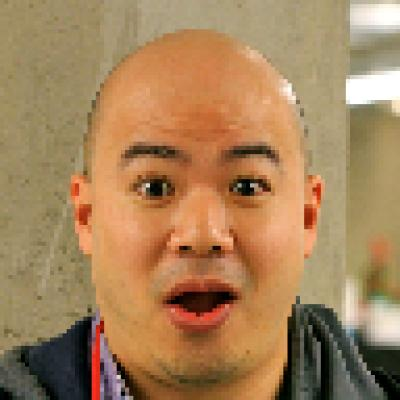surprise: (83, 39, 317, 382)
